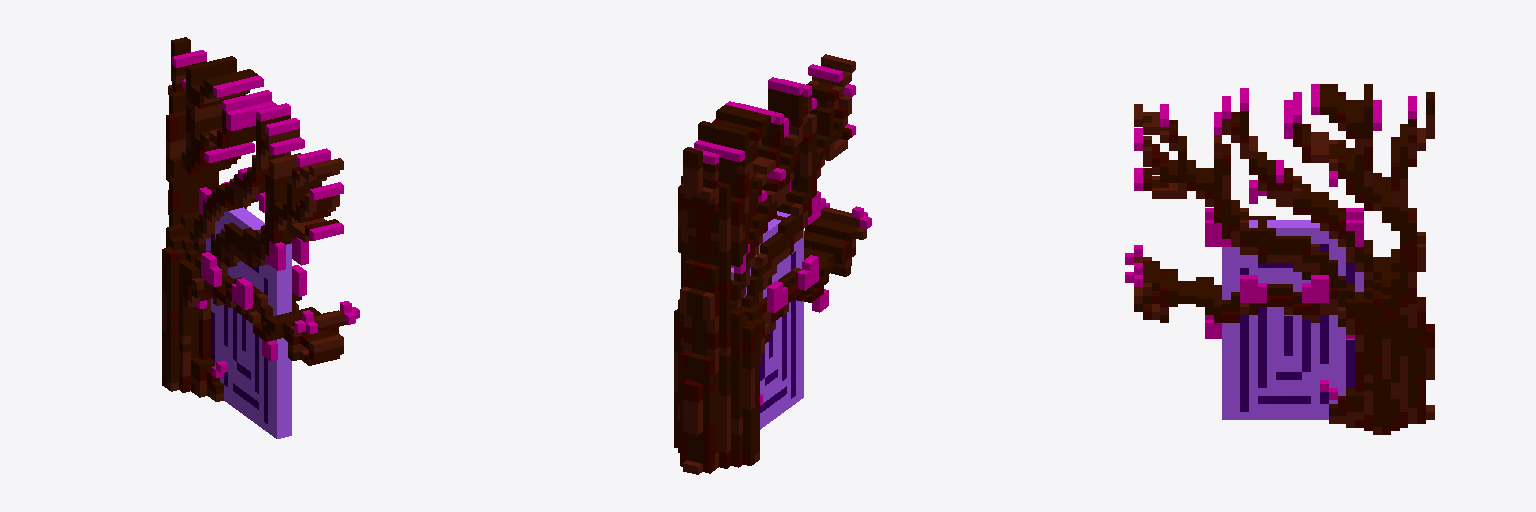
3 renders of one model, left to right at view 1: azimuth 30°, elevation 25°; view 2: azimuth 150°, elevation 25°; view 3: azimuth 270°, elevation 25°, orthographic.
Visible parts, largest first — view 1: object 1; view 2: object 1; view 3: object 1.
Boxes of the visible parts, x1,y1,x2,y2 form: object 1: [162, 37, 359, 438]; object 1: [674, 54, 871, 474]; object 1: [1125, 84, 1434, 434].
Bounding box in the file's own units: 1 × 4 × 3.5.
1 materials, 1 textured.